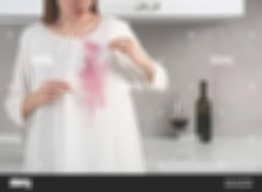wine: (81, 41, 108, 125)
